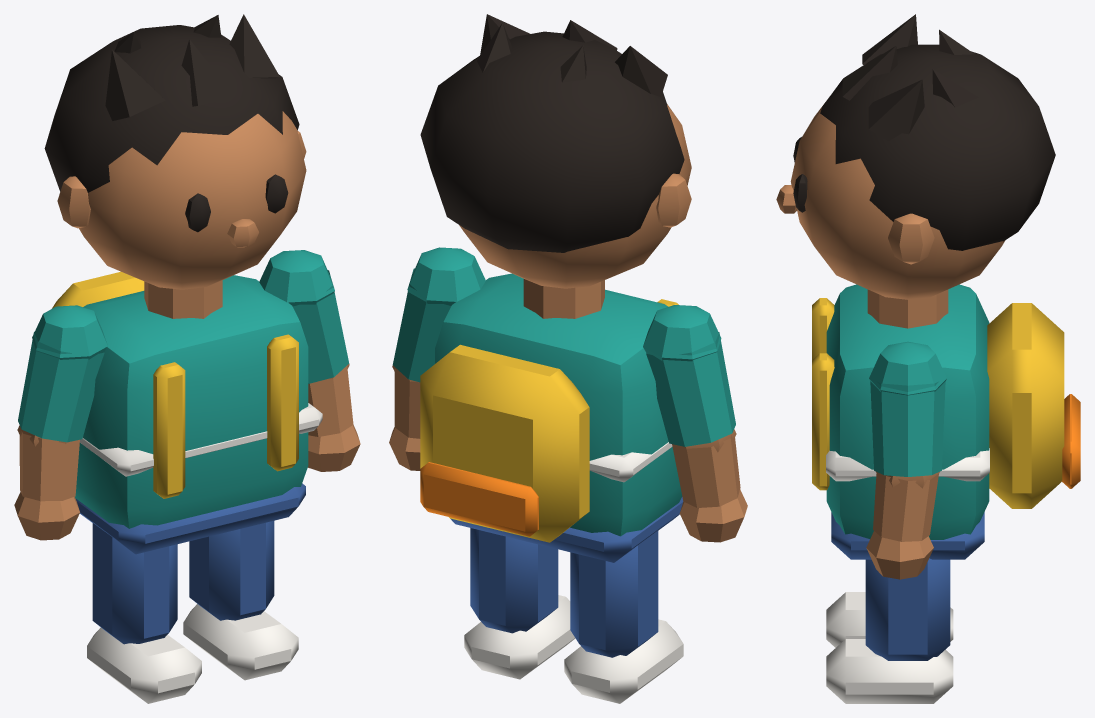
File: trav_student.glb
3 views of the same model, side by side, from view 1: azimuth 30°, elevation 25°; view 2: azimuth 150°, elevation 25°; view 3: azimuth 270°, elevation 25° (orthographic). The views are drawn at different scales.
Visible parts, largest first — view 1: body, head, arm_r, leg_r, leg_l, arm_l; view 2: body, head, arm_r, leg_r, leg_l, arm_l; view 3: head, body, arm_l, leg_l, leg_r.
Part boxes in pixels (<box>): body: <box>52,271,322,554</box>; head: <box>44,14,306,289</box>; arm_r: <box>14,305,107,540</box>; leg_r: <box>87,523,201,703</box>; leg_l: <box>183,521,298,680</box>; arm_l: <box>259,250,360,471</box>; body: <box>420,273,683,562</box>; head: <box>420,14,691,288</box>; arm_r: <box>643,305,747,542</box>; leg_r: <box>564,530,683,703</box>; leg_l: <box>464,528,575,679</box>; arm_l: <box>389,247,485,470</box>; head: <box>776,14,1055,299</box>; body: <box>812,284,1080,559</box>; arm_l: <box>866,341,946,579</box>; leg_l: <box>826,558,953,703</box>; leg_r: <box>826,592,953,647</box>.
Size of the model in its own units: 0.5621 by 0.997 by 0.439.
Materials: 1 (1 with a texture image).
